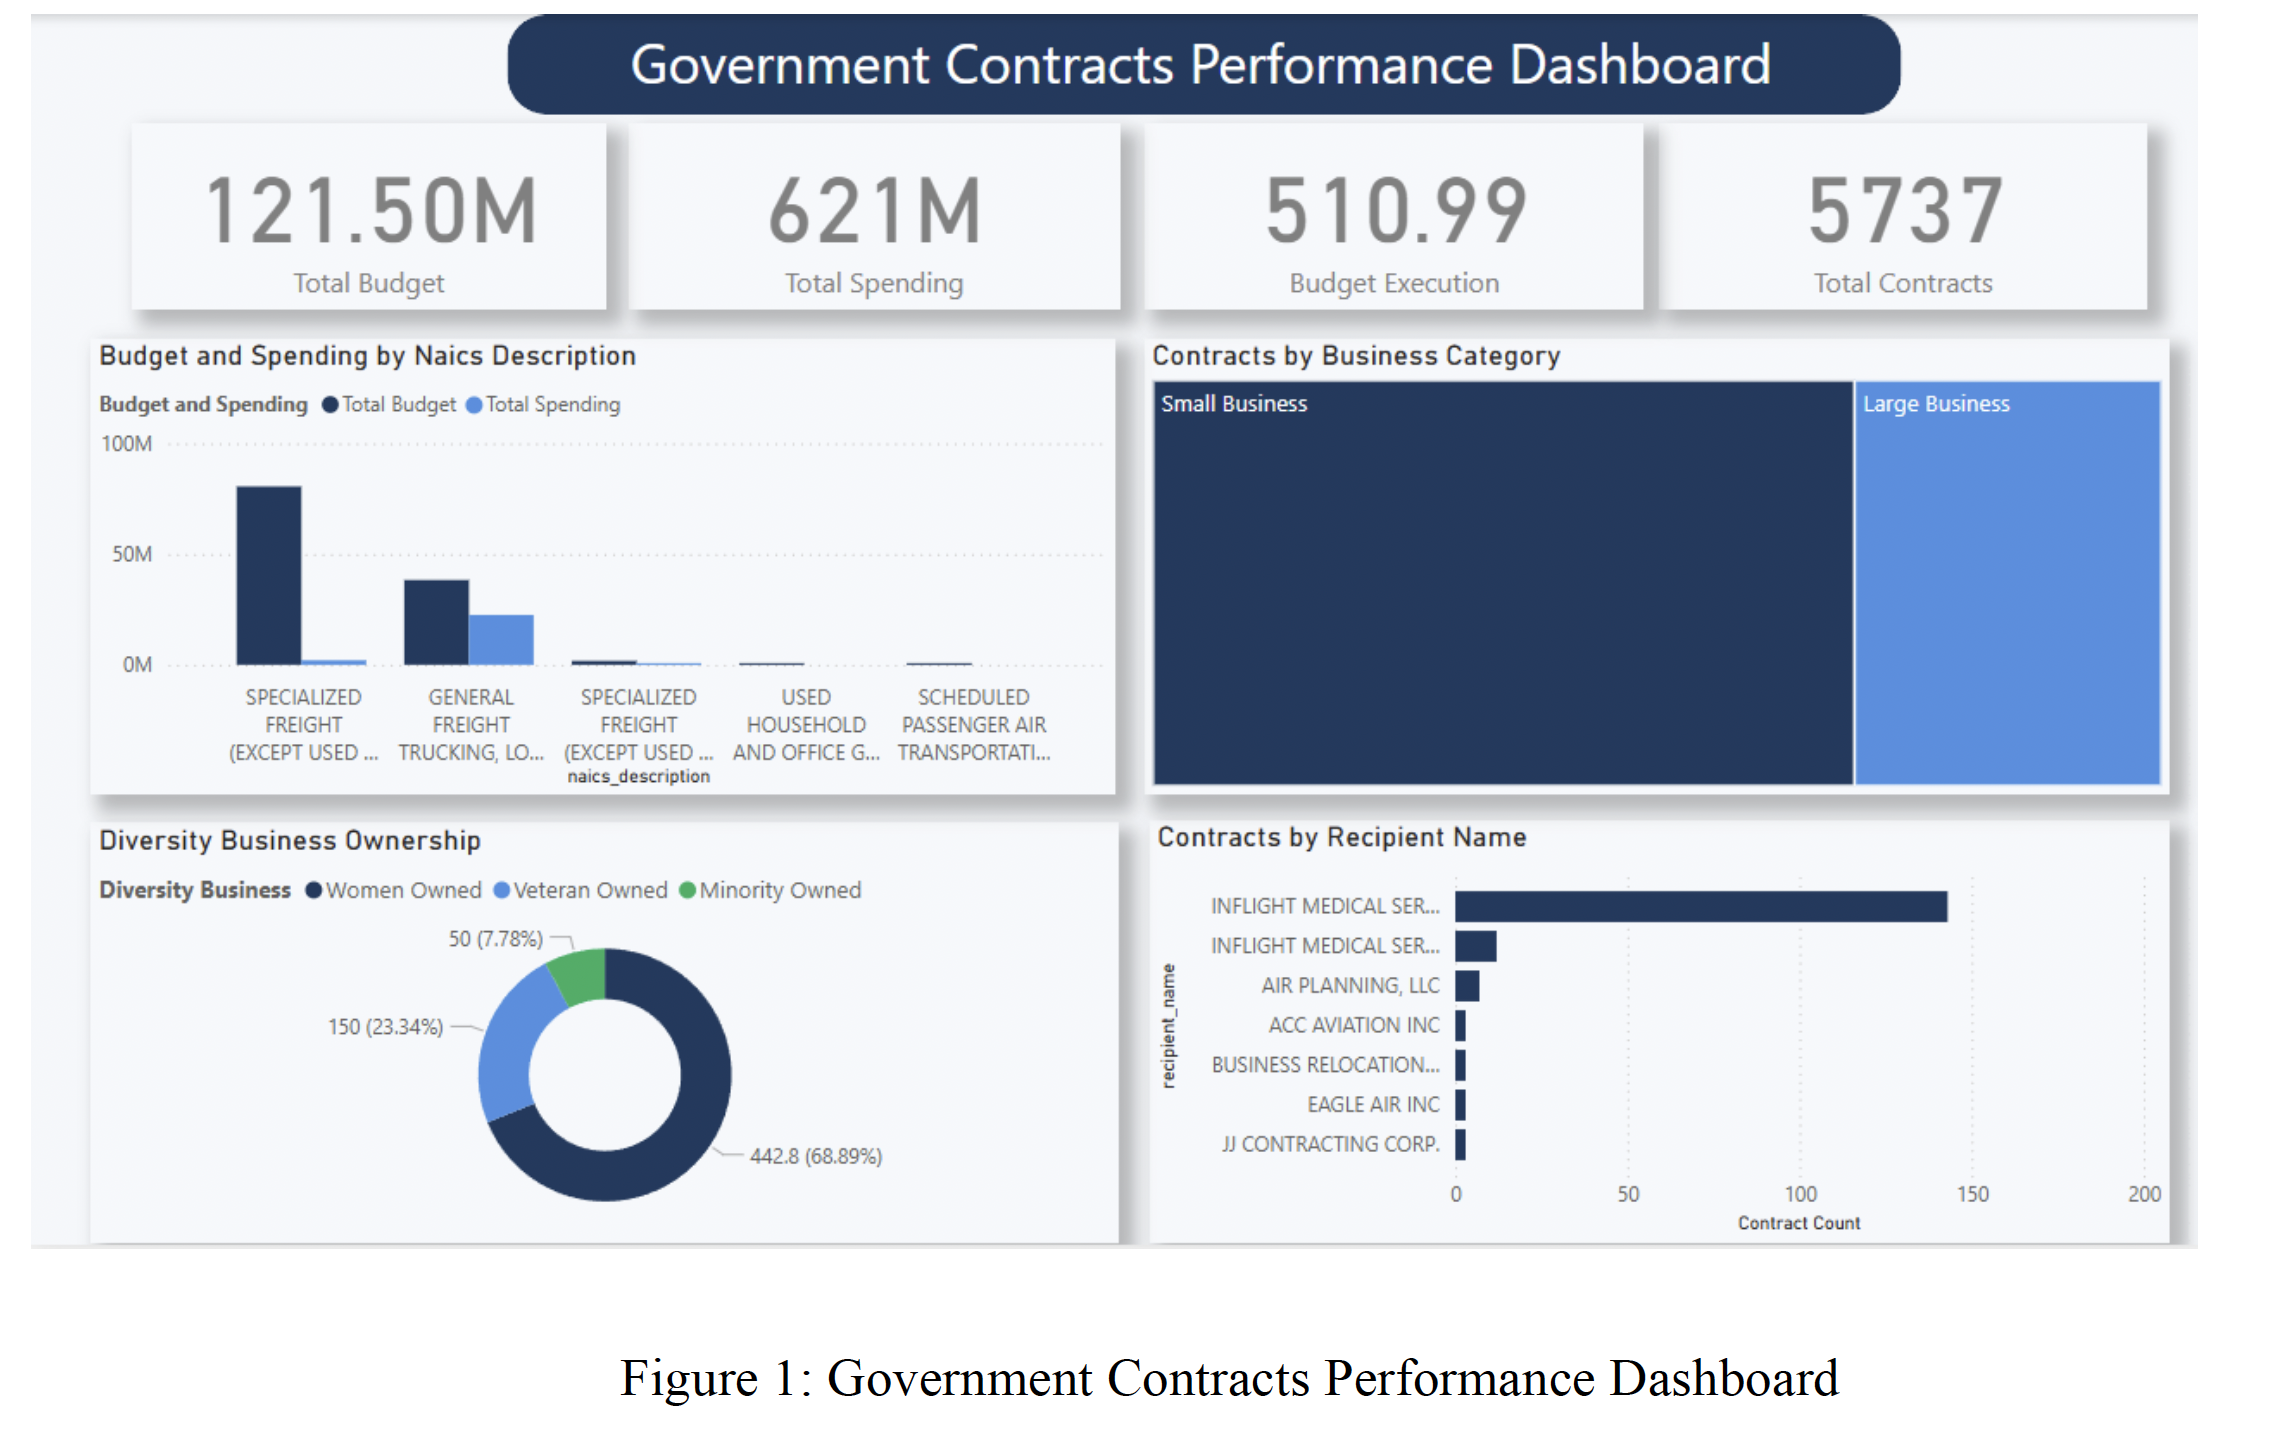

The dashboard page shown, as its layout file describes it:
{"tool":"powerbi","page":{"name":"Executive Summary","canvas":[1280,720],"ordinal":0},"visuals":[{"type":"shape","box":[282.9,0,815.7,58.6],"z":0},{"type":"card","fields":{"Values":["budget_analysis_summary.Total Budget"]},"box":[64.3,64.3,277.1,108.6],"z":1000},{"type":"card","fields":{"Values":["budget_analysis_summary.Total Spending"]},"box":[354.3,64.3,287.1,108.6],"z":2000},{"type":"card","fields":{"Values":["budget_analysis_summary.Budget Execution %"]},"box":[655.7,64.3,292.9,108.6],"z":3000},{"type":"card","fields":{"Values":["diversity_analysis_summary.Total Contracts"]},"box":[957.1,64.3,285.7,108.6],"z":4000},{"type":"clusteredColumnChart","title":"Budget and Spending by Naics Description","fields":{"Category":["budget_analysis_summary.naics_description"],"Y":["budget_analysis_summary.Total Budget","budget_analysis_summary.Total Spending"]},"box":[40,188.6,600,267.1],"z":5000},{"type":"donutChart","title":"Diversity Business Ownership","fields":{"Y":["Sum(diversity_analysis_summary.woman_owned_percentage)","Sum(diversity_analysis_summary.veteran_owned_percentage)","Sum(diversity_analysis_summary.minority_owned_percentage)"]},"box":[38.6,471.8,601.4,246.9],"z":6000},{"type":"treemap","title":"Contracts by Business Category","fields":{"Group":["export_contracts_analysis.business_category","export_contracts_analysis.business_type"],"Values":["export_contracts_analysis.Contract Count"]},"box":[655.7,188.6,600,267.1],"z":7000},{"type":"clusteredBarChart","title":"Contracts by Recipient Name","fields":{"Category":["export_contracts_analysis.recipient_name"],"Y":["export_contracts_analysis.Contract Count"]},"box":[658.6,471.4,597.1,247.1],"z":8000},{"type":"textbox","box":[340,0,697.1,88.6],"z":9000}]}

Visuals, with their boxes in screenshot pixels (x1, y1, x2, y2):
shape: x1=510 y1=6 x2=1894 y2=105
card - budget_analysis_summary.Total Budget: x1=139 y1=115 x2=609 y2=299
card - budget_analysis_summary.Total Spending: x1=631 y1=115 x2=1118 y2=299
card - budget_analysis_summary.Budget Execution %: x1=1143 y1=115 x2=1640 y2=299
card - diversity_analysis_summary.Total Contracts: x1=1654 y1=115 x2=2139 y2=299
"Budget and Spending by Naics Description" clusteredColumnChart: x1=98 y1=326 x2=1116 y2=779
"Diversity Business Ownership" donutChart: x1=95 y1=807 x2=1116 y2=1226
"Contracts by Business Category" treemap: x1=1143 y1=326 x2=2161 y2=779
"Contracts by Recipient Name" clusteredBarChart: x1=1148 y1=806 x2=2161 y2=1225
textbox: x1=607 y1=6 x2=1790 y2=156
